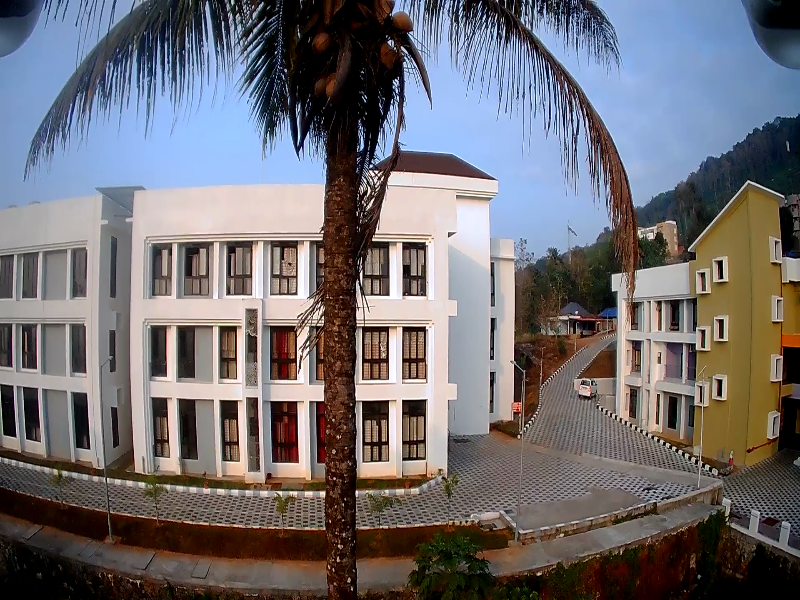coconut: (377, 41, 402, 75), (308, 30, 335, 60), (389, 12, 417, 37), (322, 79, 348, 100), (309, 76, 330, 93)
